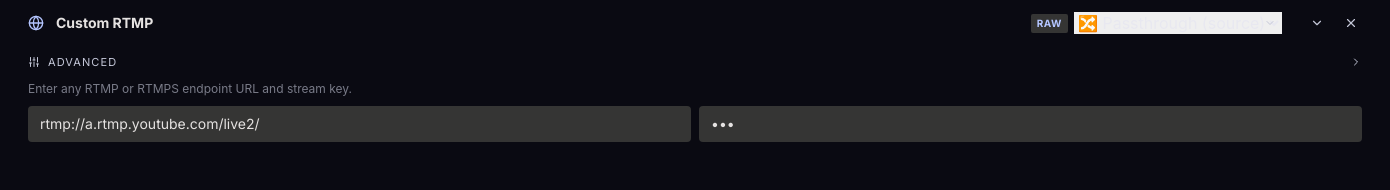
Test case: DestinationCard › passthrough destination renders raw pill and suppresses timing sliders (happy)
Expected: the text "raw" is shown, [1031, 14, 1068, 32]
Click the button "Advanced" at (83, 62), box [12, 46, 1378, 78]
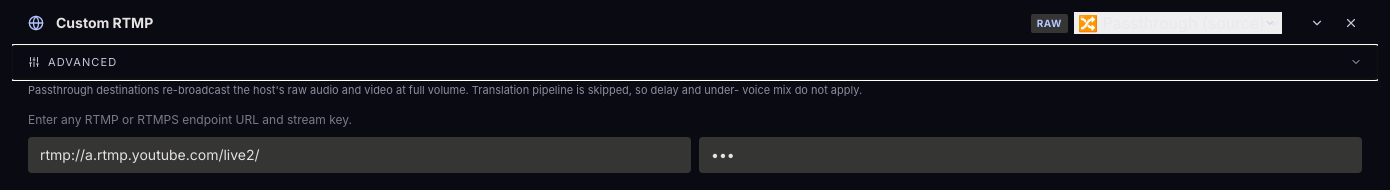
Now the text "re-broadcast the host's raw audio" is shown, box [28, 82, 862, 96]
